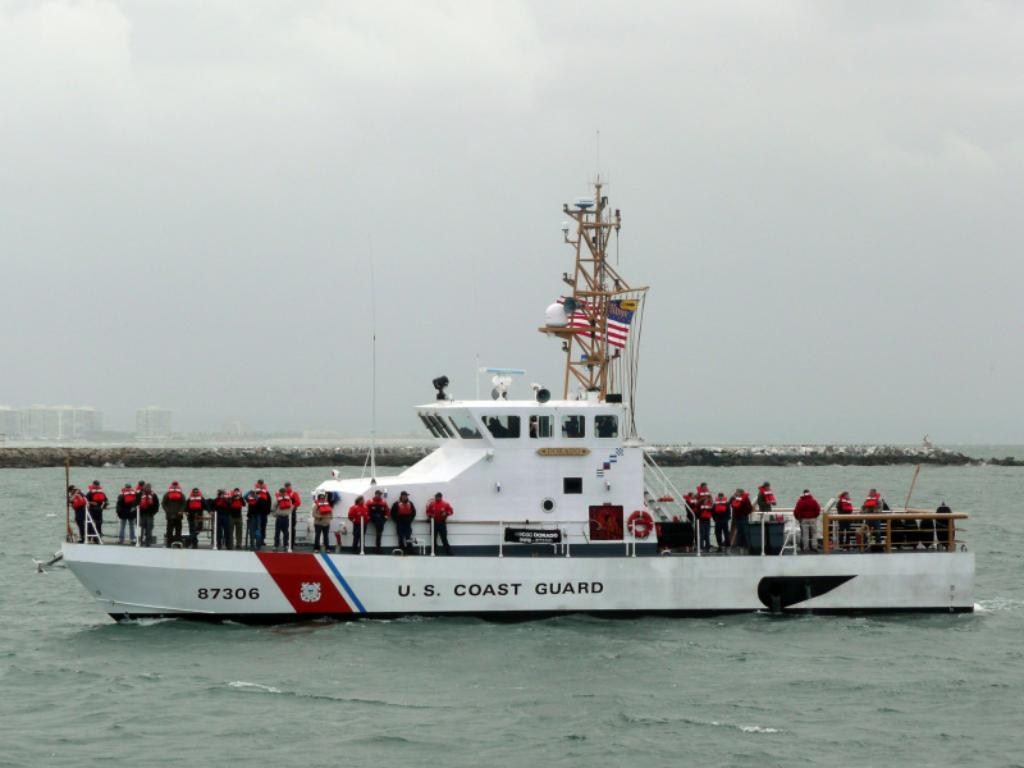Warship: (44, 190, 994, 642)
